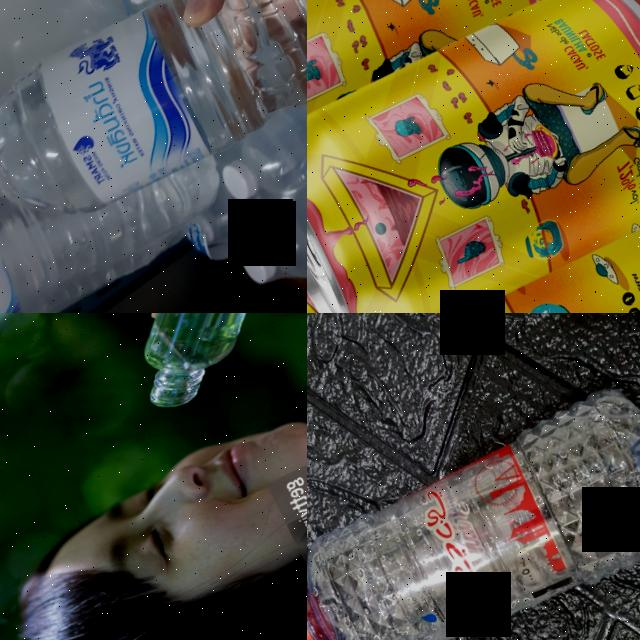bottle: (307, 365, 640, 640), (0, 0, 307, 268), (77, 313, 307, 422)
can: (307, 0, 640, 313), (307, 0, 590, 227), (307, 134, 640, 313)
